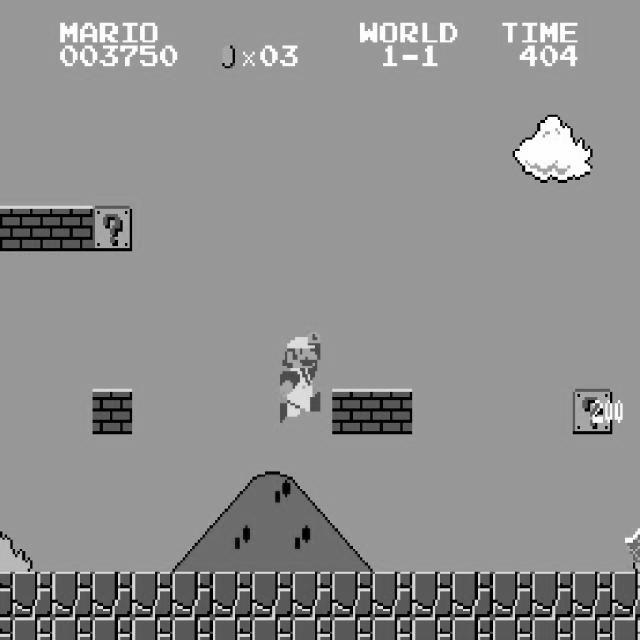1- brick_block: (92, 388, 133, 434), (332, 388, 373, 434), (372, 388, 413, 434), (12, 206, 53, 251), (52, 206, 93, 251), (0, 206, 13, 251)
13- mystery_block: (572, 388, 613, 434), (92, 206, 133, 251)
17- undestructible_block: (12, 572, 53, 618), (52, 572, 93, 618), (92, 572, 133, 618), (132, 572, 173, 618), (172, 572, 213, 618), (212, 572, 253, 618), (252, 572, 293, 618), (292, 572, 333, 618), (332, 572, 373, 618), (372, 572, 413, 618), (412, 572, 453, 618), (452, 572, 493, 618), (492, 572, 533, 618), (532, 572, 573, 618), (572, 572, 613, 618), (612, 572, 640, 618), (12, 617, 53, 640), (52, 617, 93, 640), (92, 617, 133, 640), (132, 617, 173, 640), (172, 617, 213, 640), (212, 617, 253, 640), (252, 617, 293, 640), (292, 617, 333, 640), (332, 617, 373, 640), (372, 617, 413, 640), (412, 617, 453, 640), (452, 617, 493, 640), (492, 617, 533, 640), (532, 617, 573, 640), (572, 617, 613, 640), (612, 617, 640, 640), (0, 572, 13, 618), (0, 617, 13, 640)
4- fire_mario: (277, 329, 320, 423)
